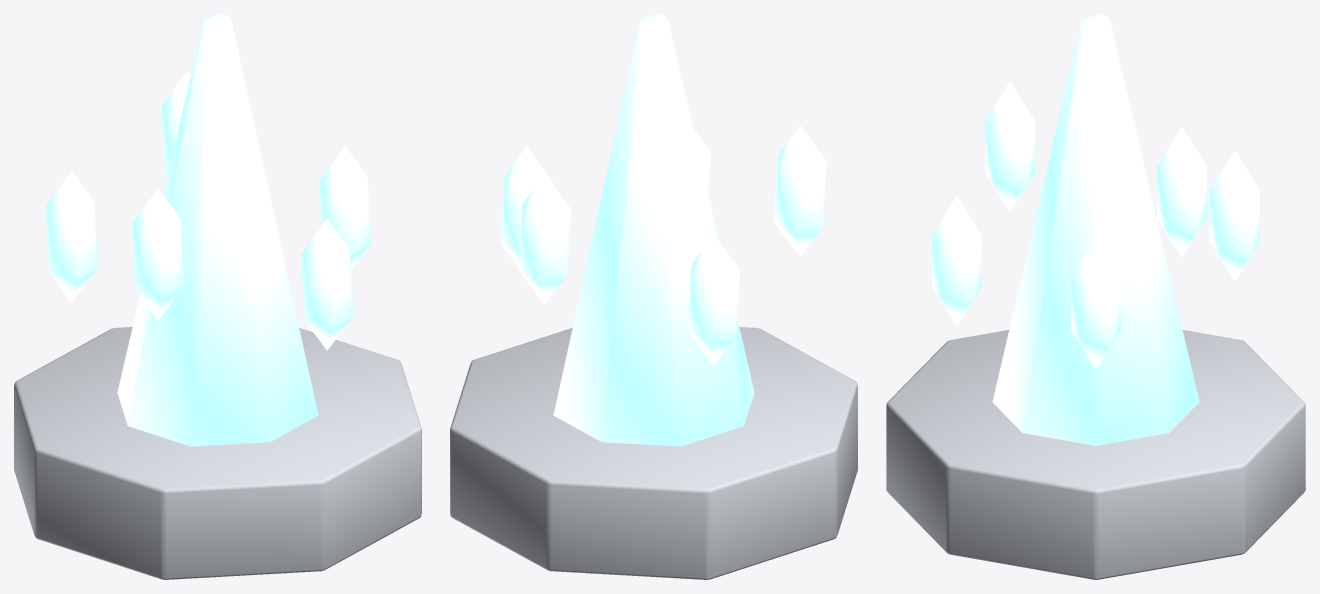
Rendered from bldg_frost_spire.glb.
3 views of the same model, side by side, from view 1: azimuth 30°, elevation 25°; view 2: azimuth 150°, elevation 25°; view 3: azimuth 270°, elevation 25° (orthographic).
Visible parts, largest first — view 1: StaticBody, Anim_Rotor; view 2: StaticBody, Anim_Rotor; view 3: StaticBody, Anim_Rotor.
Boxes of the visible parts, x1,y1,x2,y2 form: StaticBody: (14, 14, 421, 579); Anim_Rotor: (45, 71, 371, 350); StaticBody: (450, 14, 857, 579); Anim_Rotor: (500, 125, 826, 365); StaticBody: (886, 14, 1305, 579); Anim_Rotor: (932, 81, 1259, 369).
Size of the model in its own units: 2.35 by 2.92 by 2.35.
